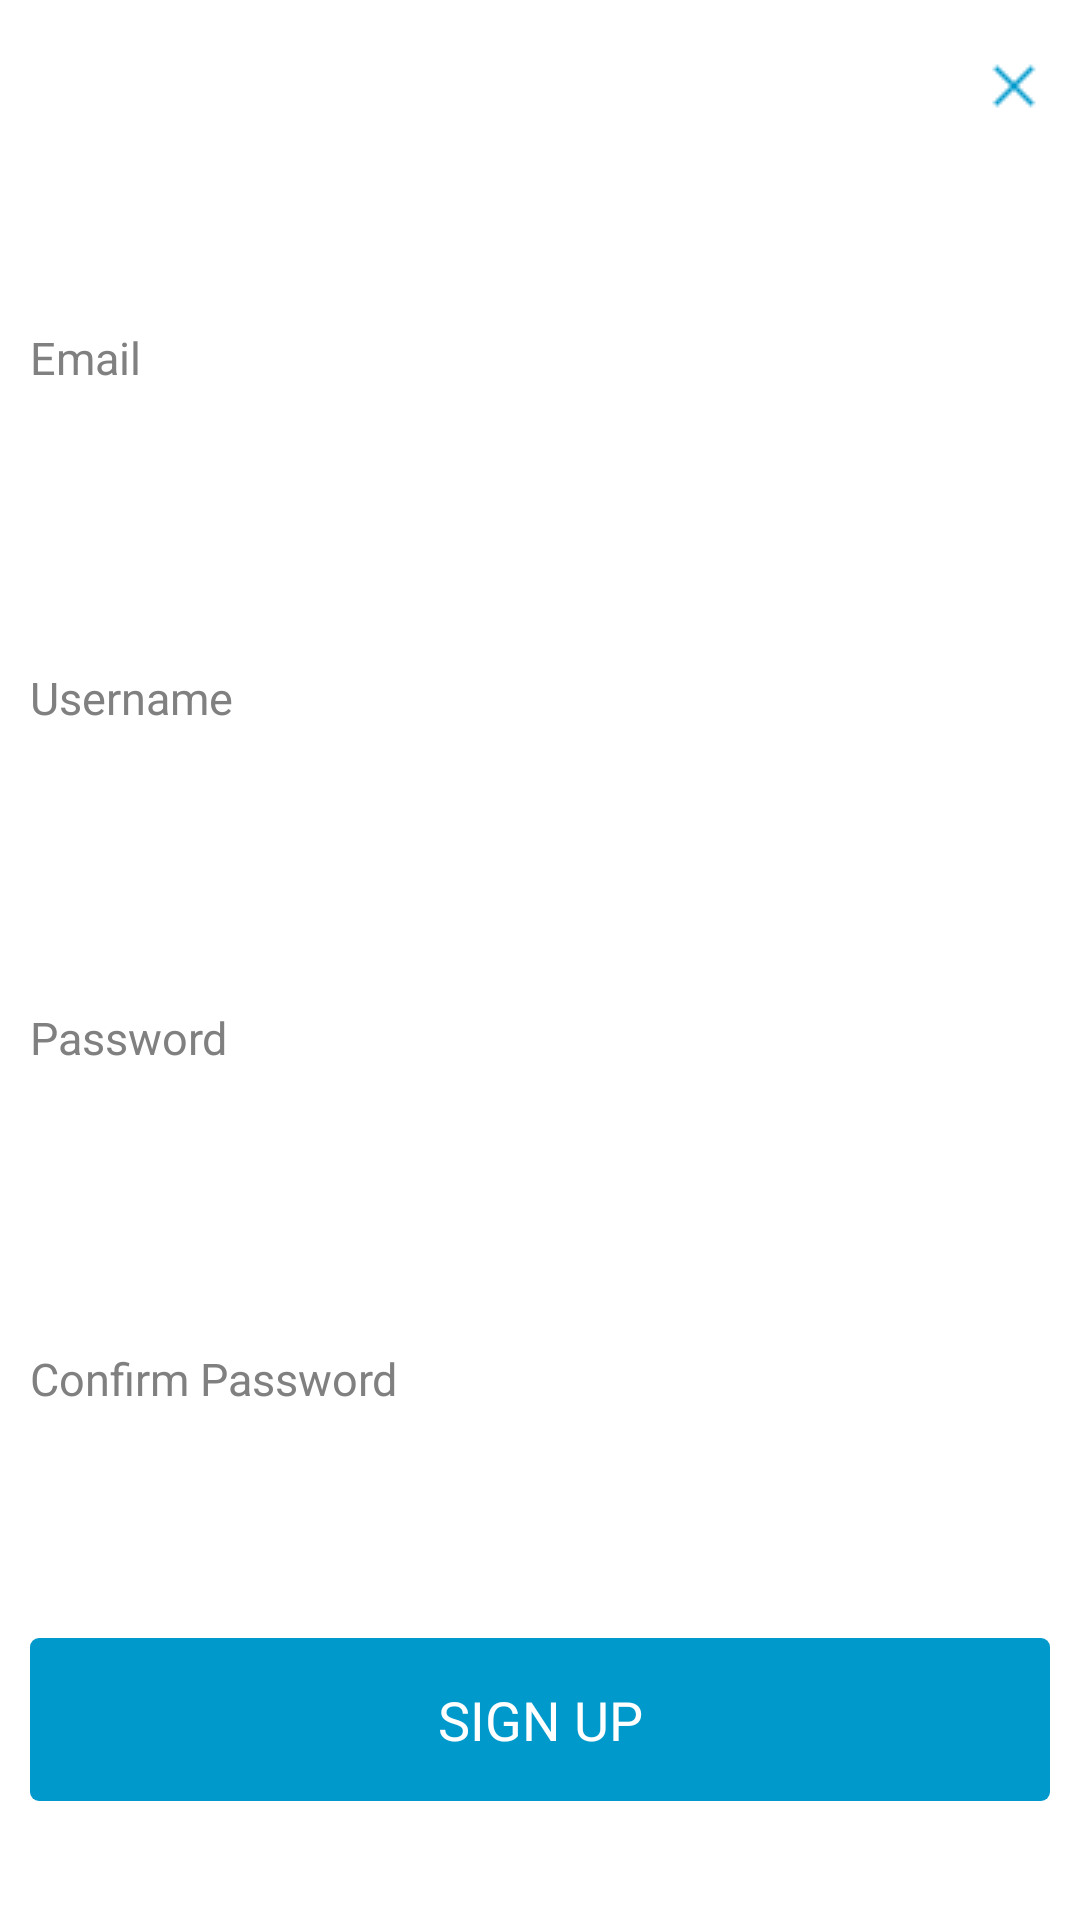

Point at icon controls on the screen. Image size 1080 × 1920, points as (x=x, y=y).
close: (x=1014, y=86)
